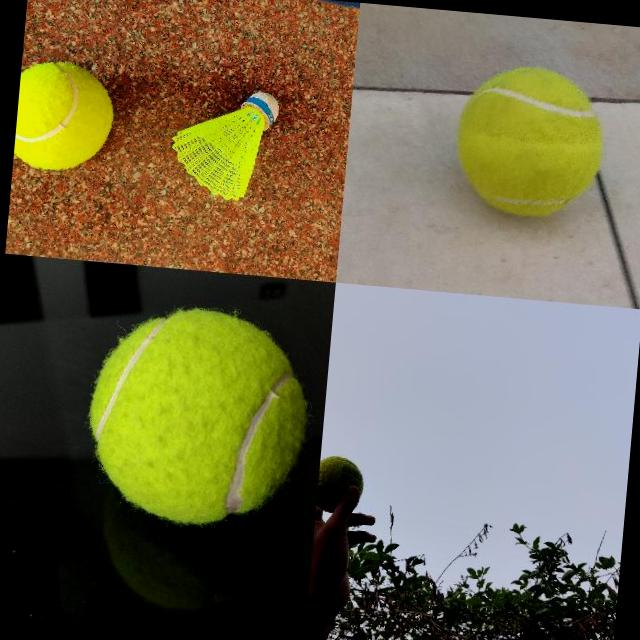Tennis Ball: (77, 296, 316, 534), (450, 60, 610, 222), (12, 57, 118, 175), (315, 452, 366, 516)
